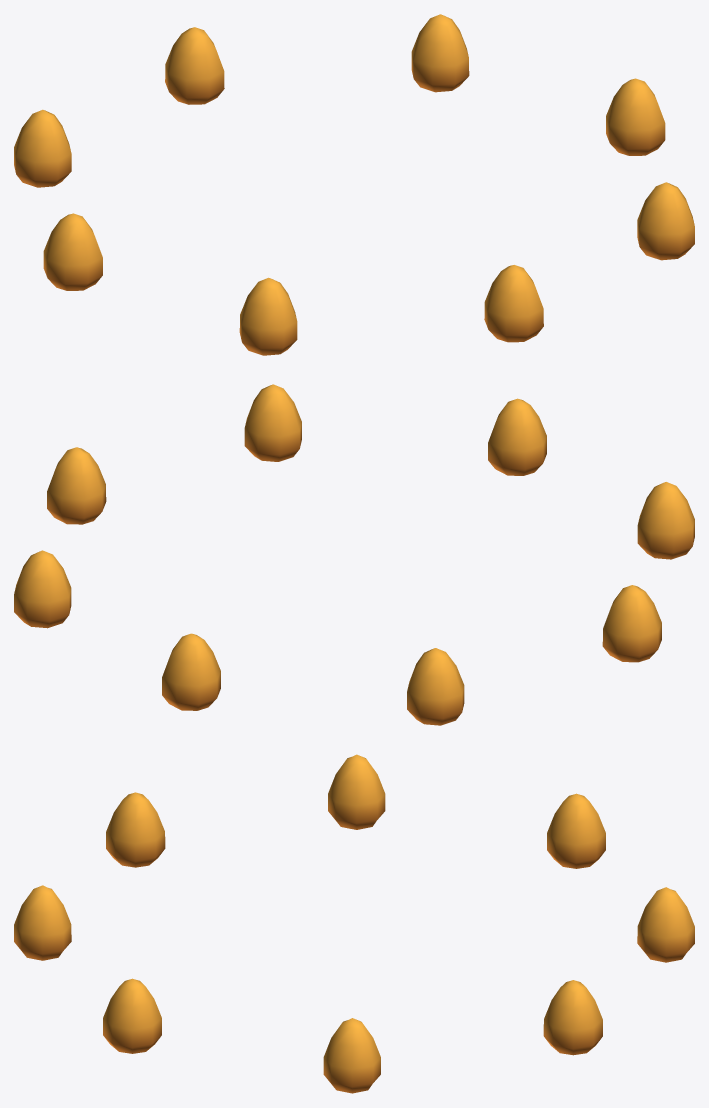
File: cake_birthday_candle_fire.obj
3 views of the same model, one above another, from view 1: azimuth 30°, elevation 25°; view 2: azimuth 150°, elevation 25°; view 3: azimuth 270°, elevation 25° (orthographic). The views are drawn at different scales.
Parts seen in each view (by area): view 1: cake_birthday_candle_fire; view 2: cake_birthday_candle_fire; view 3: cake_birthday_candle_fire.
Boxes of the visible parts, bbox=[...] form: cake_birthday_candle_fire: bbox=[14, 14, 694, 355]; cake_birthday_candle_fire: bbox=[14, 384, 694, 725]; cake_birthday_candle_fire: bbox=[14, 754, 694, 1093].
Bounding box in the file's own units: 0.9232 × 0.1067 × 0.9232.
Materials: 1 (1 with a texture image).
